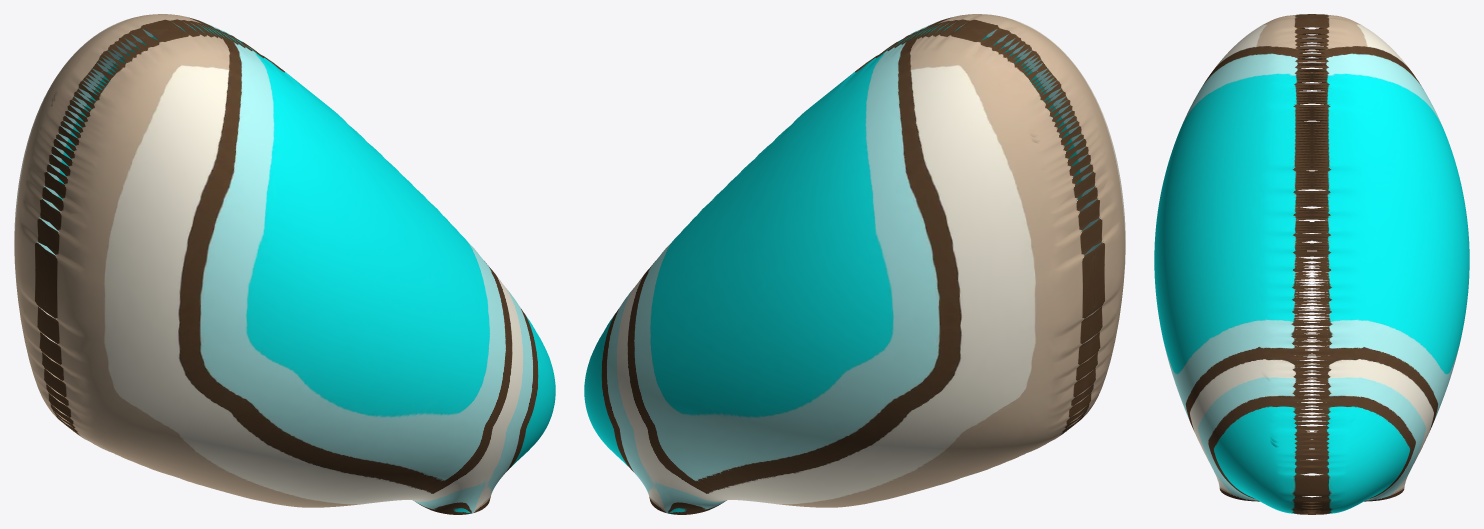
Rendered from cyan_terminal.glb.
The picture shows the model from 3 angles, left to right: view 1: azimuth 30°, elevation 25°; view 2: azimuth 150°, elevation 25°; view 3: azimuth 270°, elevation 25°; orthographic projection. The views are drawn at different scales.
Visible parts, largest first — view 1: cyan_terminal; view 2: cyan_terminal; view 3: cyan_terminal.
Boxes of the visible parts, x1,y1,x2,y2 form: cyan_terminal: (14,14,555,514); cyan_terminal: (584,14,1125,514); cyan_terminal: (1154,14,1469,514).
Bounding box in the file's own units: 0.989 × 0.958 × 0.7285.
Materials: 1 (1 with a texture image).
